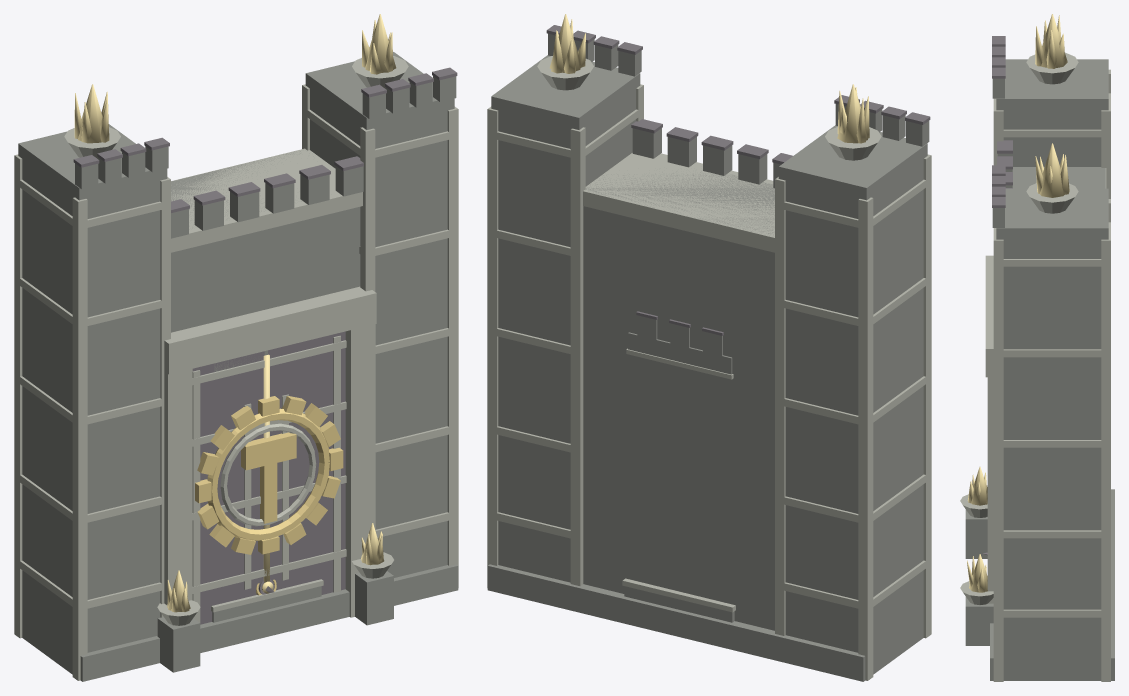
Rendered from InfernalF24Kit.fbx.
3 renders of one model, left to right at view 1: azimuth 30°, elevation 25°; view 2: azimuth 150°, elevation 25°; view 3: azimuth 270°, elevation 25°, orthographic. The views are drawn at different scales.
Visible parts, largest first — view 1: CitadelDoors__STONE, CitadelDoors__TRIM, CitadelDoors__METAL, CitadelDoors__GOLD, CitadelDoors__GLOW, SluiceTower__TRIM, SluiceTower__STONE; view 2: CitadelDoors__STONE, CitadelDoors__TRIM, SluiceTower__STONE, CitadelDoors__METAL, CitadelDoors__GLOW, SluiceTower__TRIM; view 3: CitadelDoors__STONE, CitadelDoors__TRIM, CitadelDoors__GLOW, CitadelDoors__METAL.
Boxes of the visible parts, box(x1,y1,x2,y2) form: CitadelDoors__STONE: box(18, 52, 458, 681); CitadelDoors__TRIM: box(14, 56, 458, 680); CitadelDoors__METAL: box(73, 67, 457, 624); CitadelDoors__GOLD: box(195, 396, 343, 554); CitadelDoors__GLOW: box(74, 14, 396, 612); SluiceTower__TRIM: box(211, 394, 323, 612); SluiceTower__STONE: box(212, 350, 321, 622); CitadelDoors__STONE: box(487, 33, 929, 681); CitadelDoors__TRIM: box(487, 56, 931, 680); SluiceTower__STONE: box(624, 315, 734, 622); CitadelDoors__METAL: box(546, 25, 930, 164); CitadelDoors__GLOW: box(549, 14, 869, 143); SluiceTower__TRIM: box(622, 348, 735, 612); CitadelDoors__STONE: box(965, 59, 1114, 680); CitadelDoors__TRIM: box(960, 52, 1110, 681); CitadelDoors__GLOW: box(967, 14, 1069, 592); CitadelDoors__METAL: box(992, 36, 1012, 207).
Bounding box in the file's own units: 64.8 × 91.5 × 24.8.
